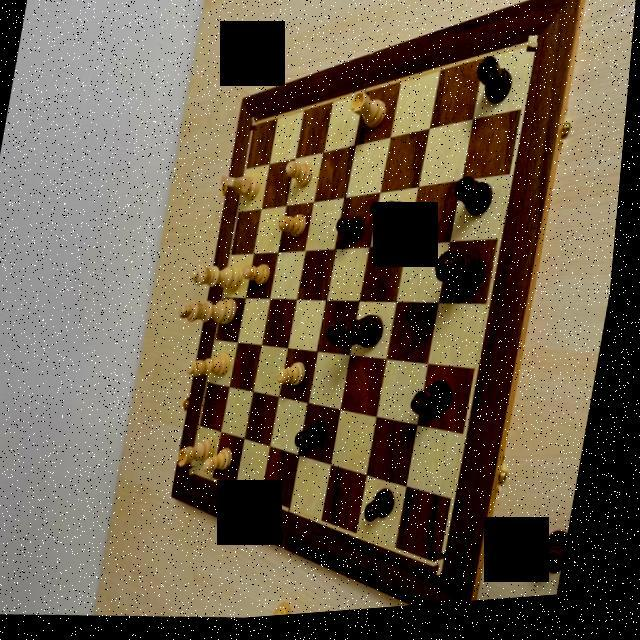chess-table-corners: (443, 558, 459, 582), (528, 41, 544, 60), (251, 119, 261, 134), (195, 467, 205, 478)
